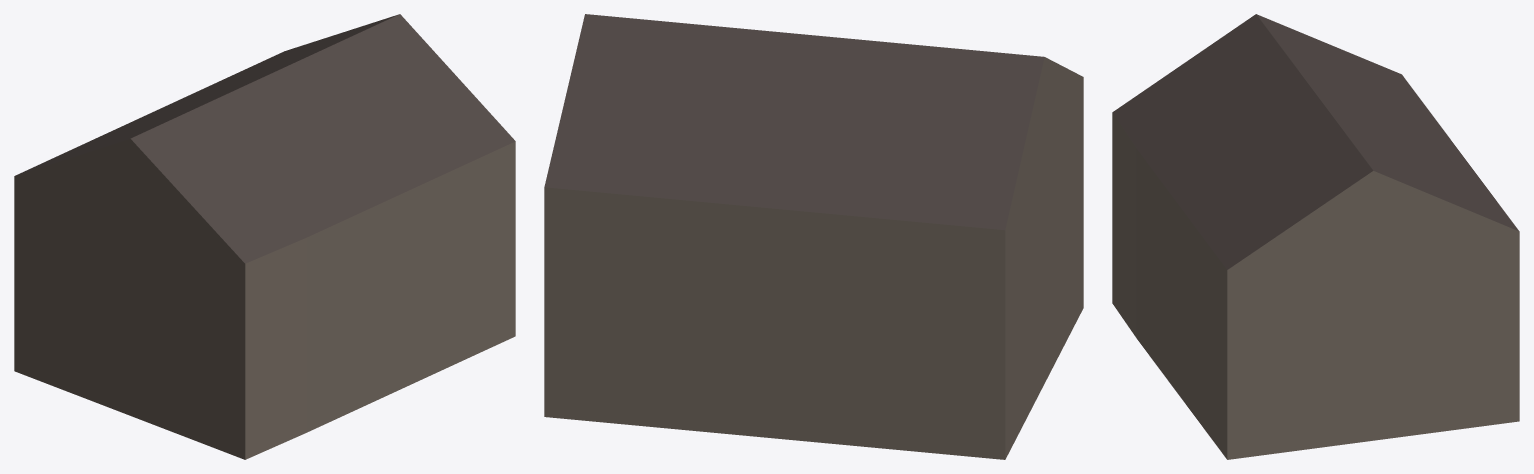
3 renders of one model, left to right at view 1: azimuth 30°, elevation 25°; view 2: azimuth 150°, elevation 25°; view 3: azimuth 270°, elevation 25°, orthographic. The views are drawn at different scales.
Parts seen in each view (by area): view 1: HP-w1198840839; view 2: HP-w1198840839; view 3: HP-w1198840839.
Boxes of the visible parts, bbox=[...] form: HP-w1198840839: bbox=[14, 14, 515, 459]; HP-w1198840839: bbox=[544, 14, 1083, 459]; HP-w1198840839: bbox=[1112, 14, 1519, 459].
Bounding box in the file's own units: 13.26 × 8.53 × 11.66.
